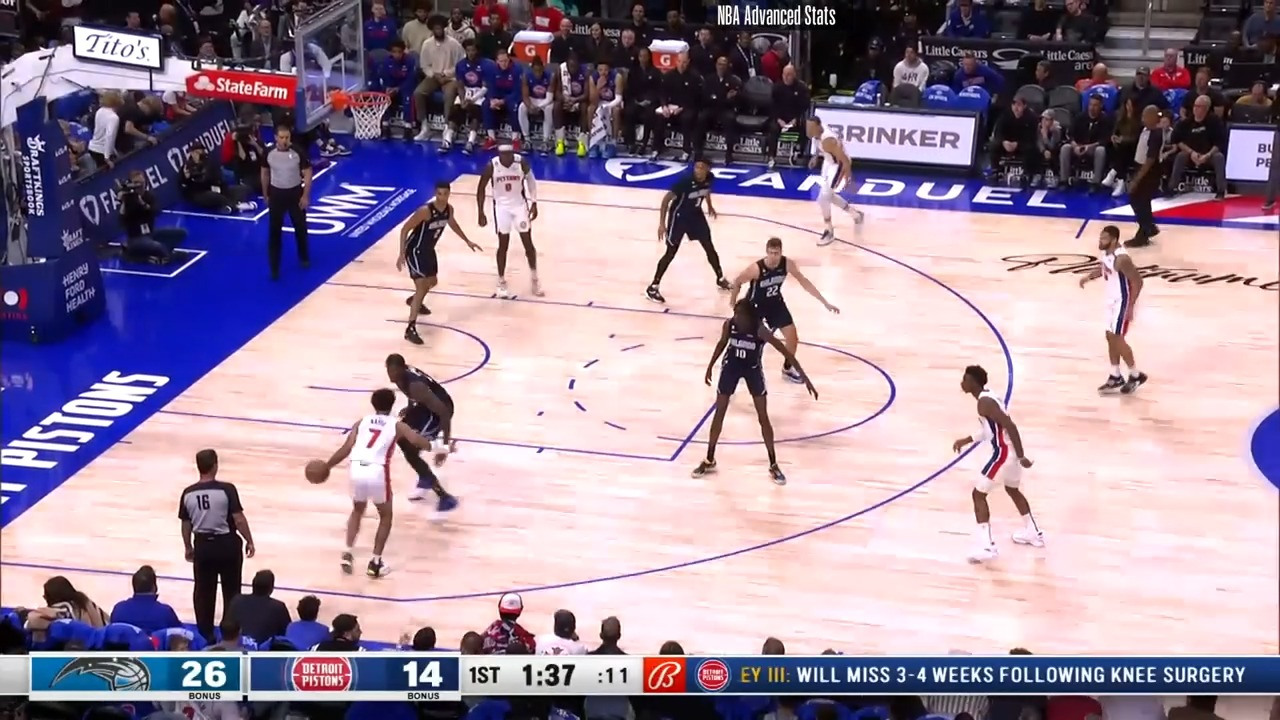net: (328, 84, 396, 146)
player: (318, 382, 428, 582), (687, 295, 794, 488), (948, 364, 1047, 567), (724, 235, 837, 403), (388, 177, 479, 346), (378, 349, 466, 522), (1078, 223, 1155, 405), (644, 156, 736, 307), (479, 142, 551, 304), (803, 108, 868, 249)
referee: (168, 449, 254, 637), (260, 127, 319, 286), (1125, 102, 1172, 248)
